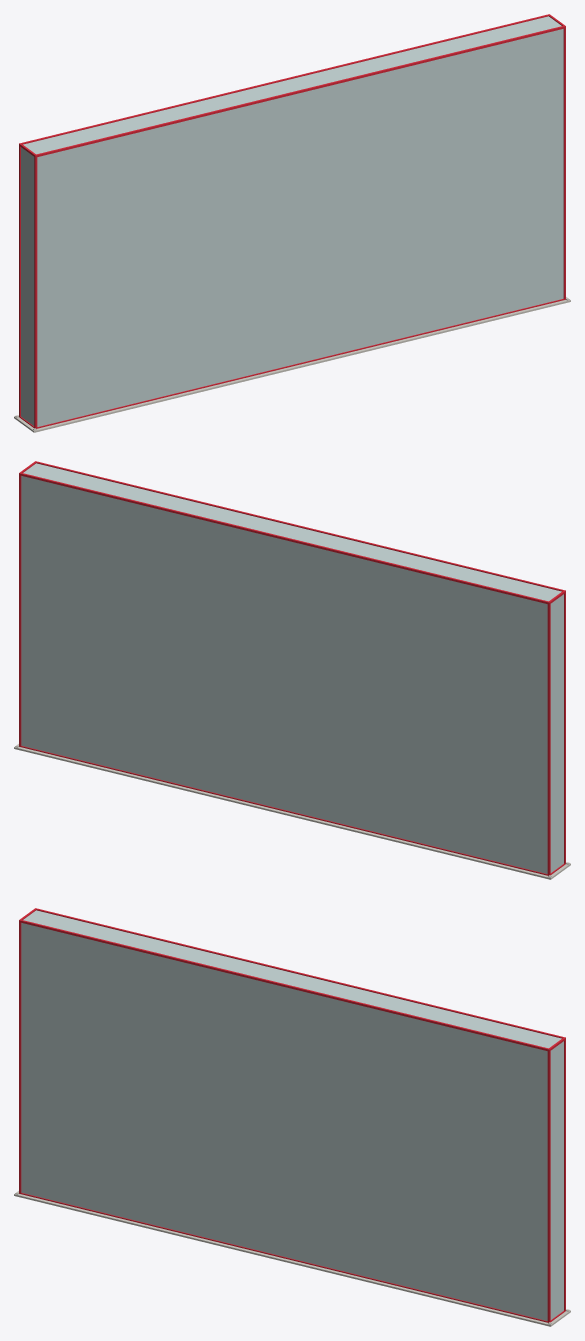
Rendered from vpk-7829-bumerang.glb.
3 views of the same model, one above another, from view 1: azimuth 30°, elevation 25°; view 2: azimuth 150°, elevation 25°; view 3: azimuth 330°, elevation 25° (orthographic).
Bounding box in the file's own units: 2 × 0.9795 × 0.13.
